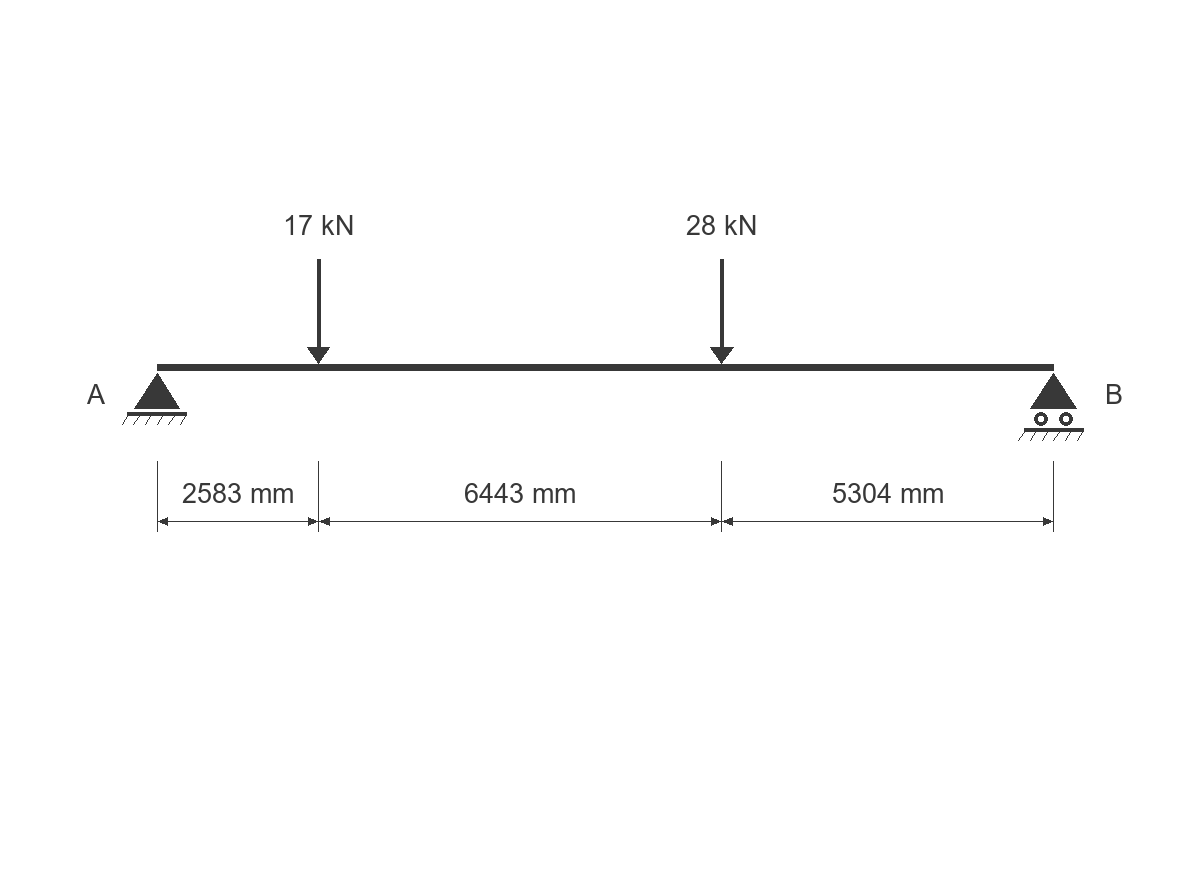pin_support: (122, 373, 187, 425)
point_load: (710, 259, 734, 364), (307, 259, 330, 364)
roller_support: (1018, 373, 1084, 441)
